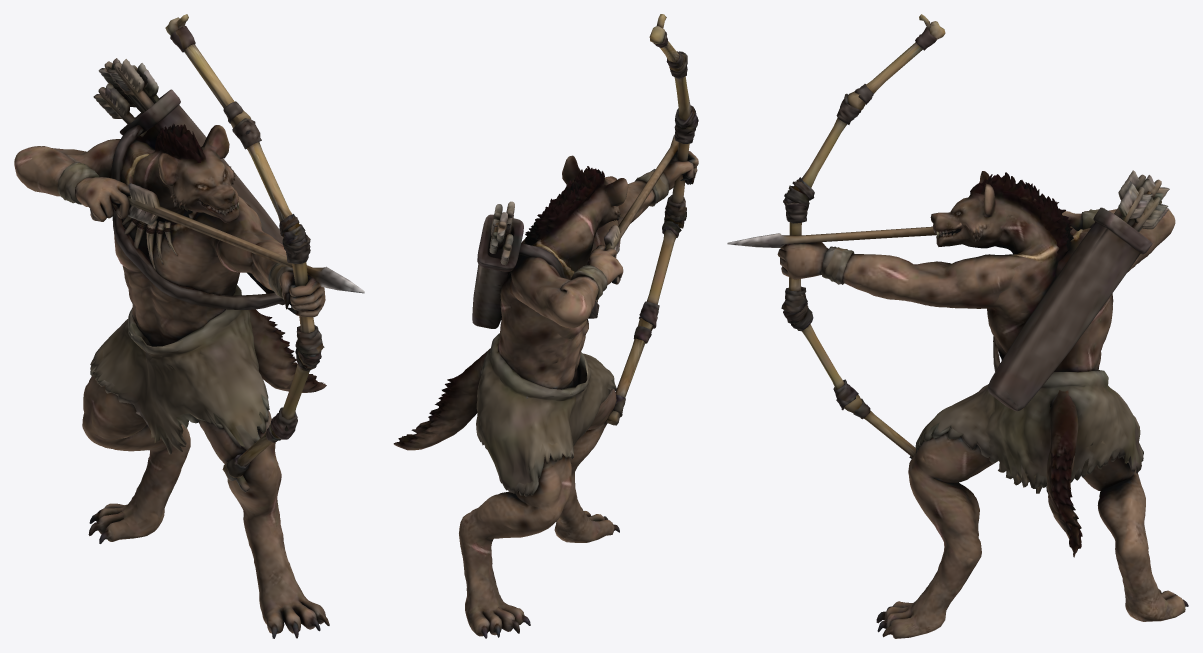
The model's file is MZ4250 - Gnoll Warrior 2025_ranged_hyena.glb.
3 renders of one model, left to right at view 1: azimuth 30°, elevation 25°; view 2: azimuth 150°, elevation 25°; view 3: azimuth 270°, elevation 25°, orthographic. The views are drawn at different scales.
Parts seen in each view (by area): view 1: Body.001; view 2: Body.001; view 3: Body.001.
Boxes of the visible parts, box(x1,y1,x2,y2) form: Body.001: box(14, 14, 364, 638); Body.001: box(393, 14, 698, 638); Body.001: box(727, 14, 1188, 638).
Size of the model in its own units: 55.04 by 124 by 90.93.
Materials: 4 (4 with a texture image).
